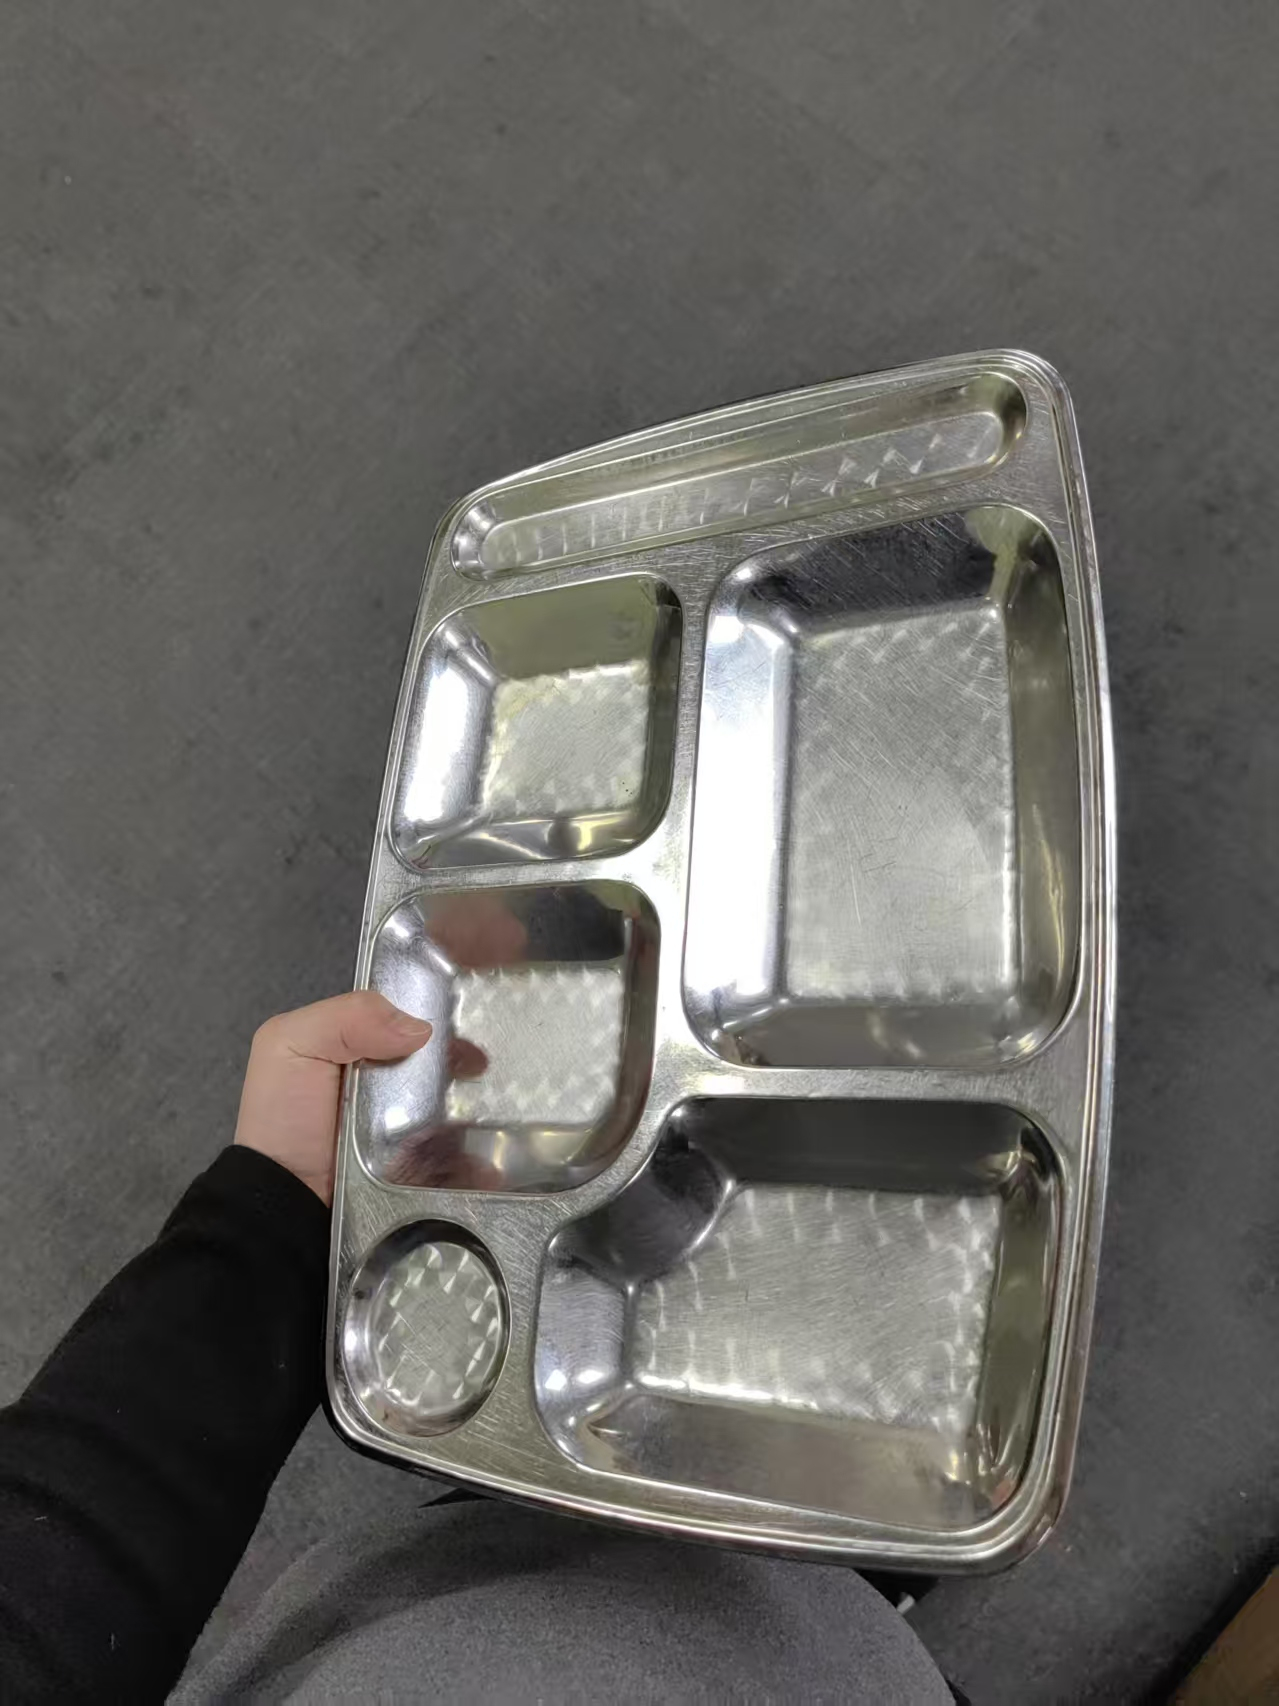plate: (318, 347, 1121, 1577)
